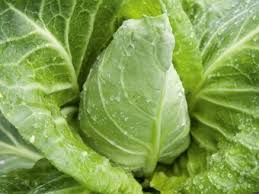cabbage: (82, 14, 205, 178)
